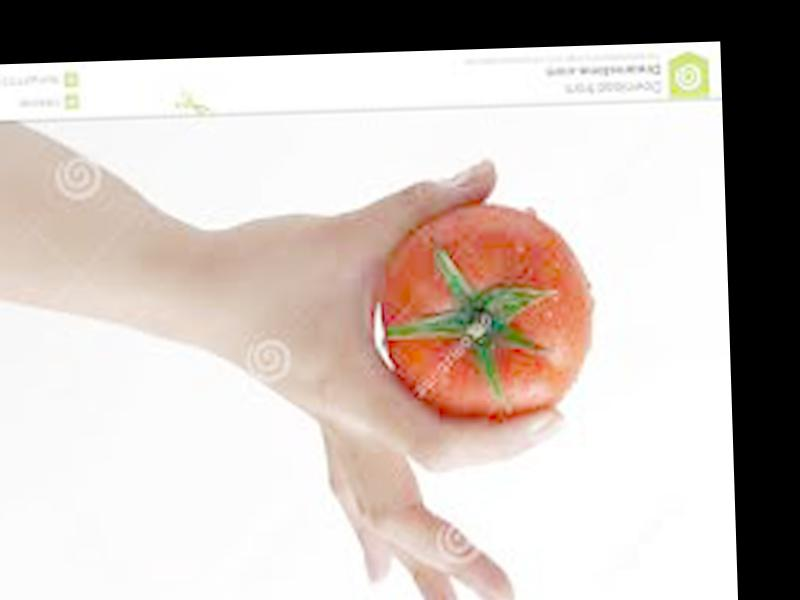Tomato: (376, 201, 597, 426)
